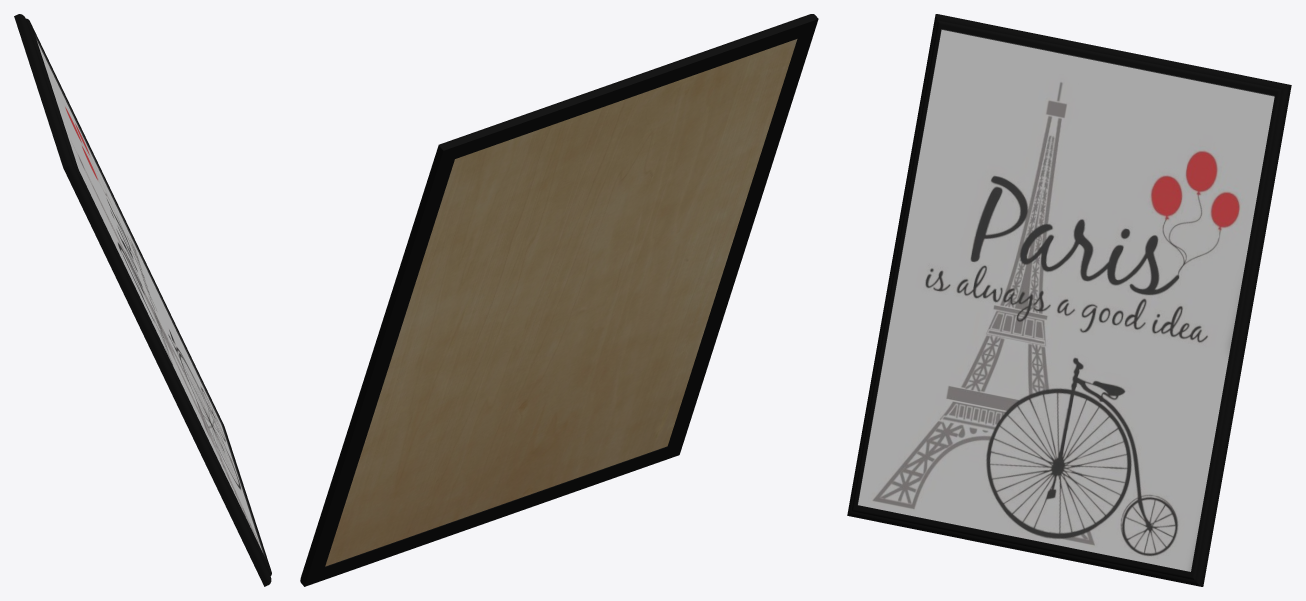
File: frame2.glb
3 renders of one model, left to right at view 1: azimuth 30°, elevation 25°; view 2: azimuth 150°, elevation 25°; view 3: azimuth 270°, elevation 25°, orthographic. The views are drawn at different scales.
Parts seen in each view (by area): view 1: Frame, Plexiglass, Paper; view 2: Wood, Frame; view 3: Plexiglass, Paper, Frame.
Boxes of the visible parts, x1,y1,x2,y2 form: Frame: [14, 14, 271, 586]; Plexiglass: [36, 37, 264, 555]; Paper: [37, 41, 262, 551]; Wood: [325, 39, 797, 566]; Frame: [300, 14, 818, 586]; Plexiglass: [858, 29, 1274, 571]; Paper: [858, 30, 1274, 571]; Frame: [847, 14, 1291, 586].
Size of the model in its own units: 0.1849 by 0.2654 by 0.2452.
Materials: 5 (4 with a texture image).
